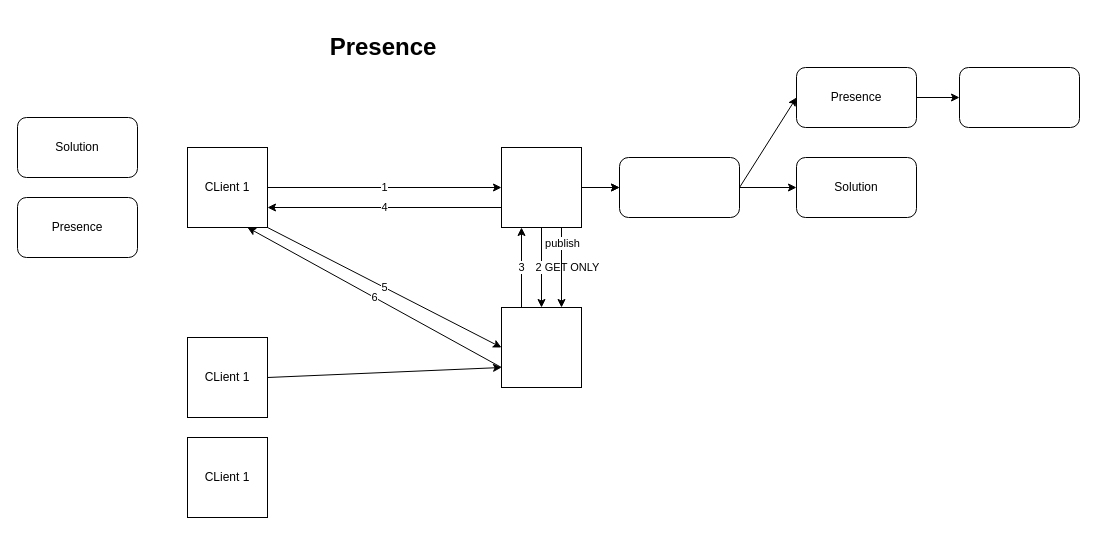
Image size: 1097x535. Some labels were removed from this diagram. The box of each missing label's shape, as (x1, y1, x2, y2) in pixels:
API: (500, 146, 582, 228)
HUT: (958, 66, 1080, 128)
Mercure: (500, 306, 582, 388)
Team Exercise Phase: (618, 156, 740, 218)
